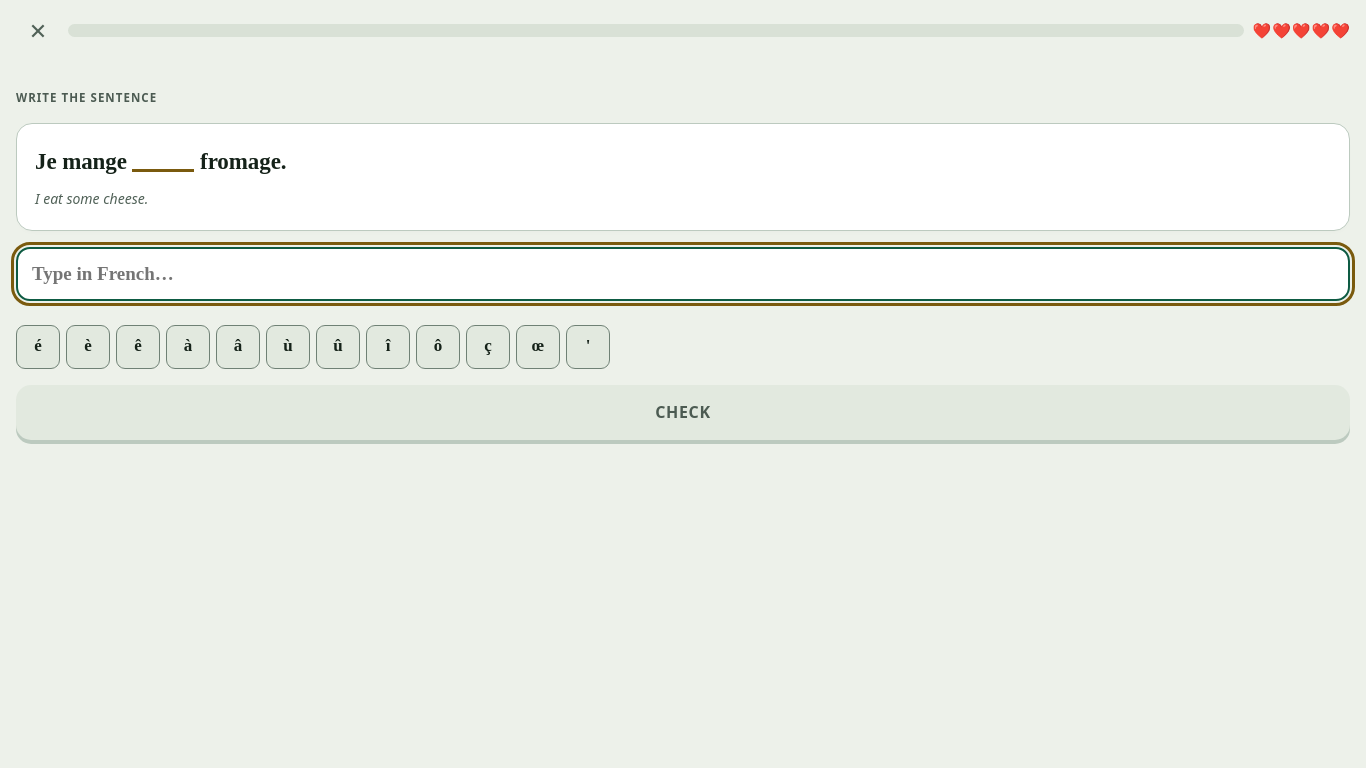
RoundView: every question kind can be answered › type: a wrong answer costs a heart, opens the why-card, and Got it moves on
The image size is (1366, 768).
Step 1. Type "zzz" into the field → (683, 274), box [16,247,1350,301]
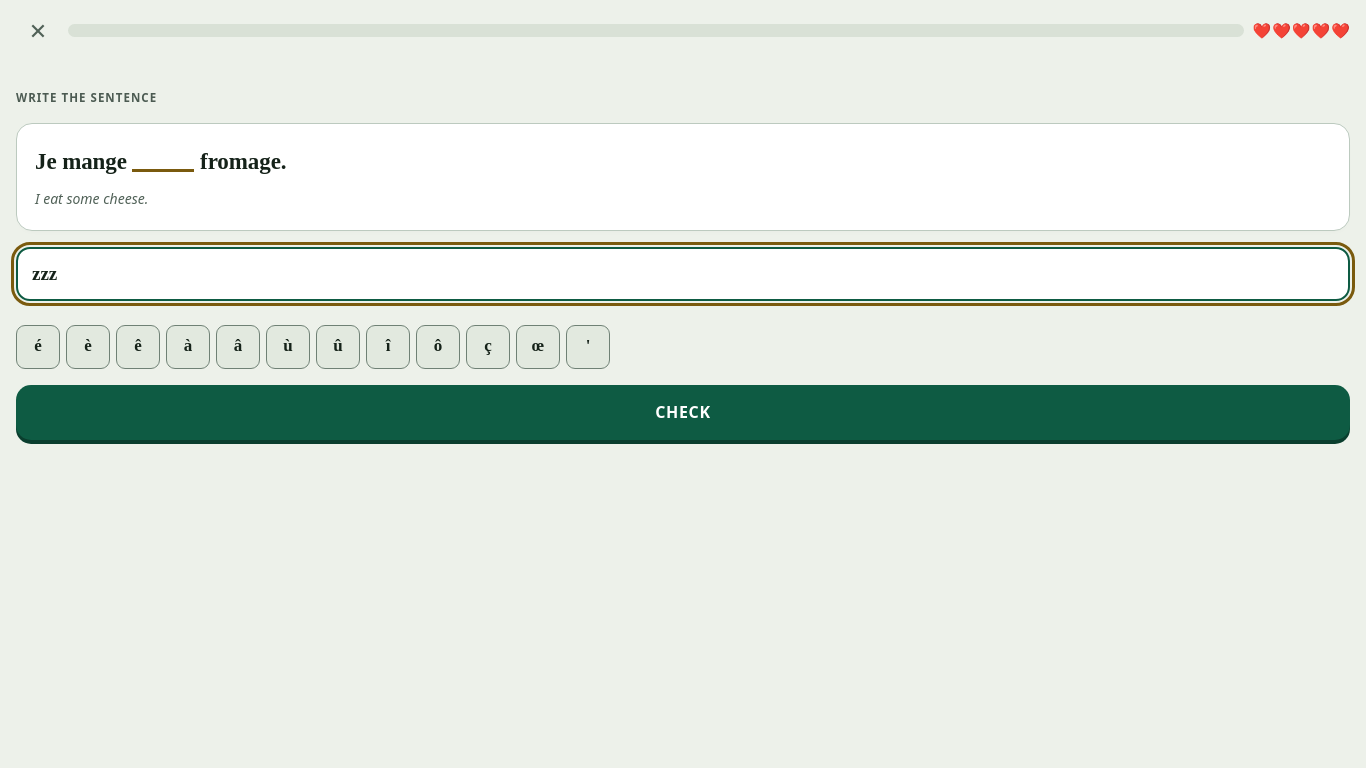
Step 2. Click the button "Check" → (683, 412), box [16,385,1350,440]
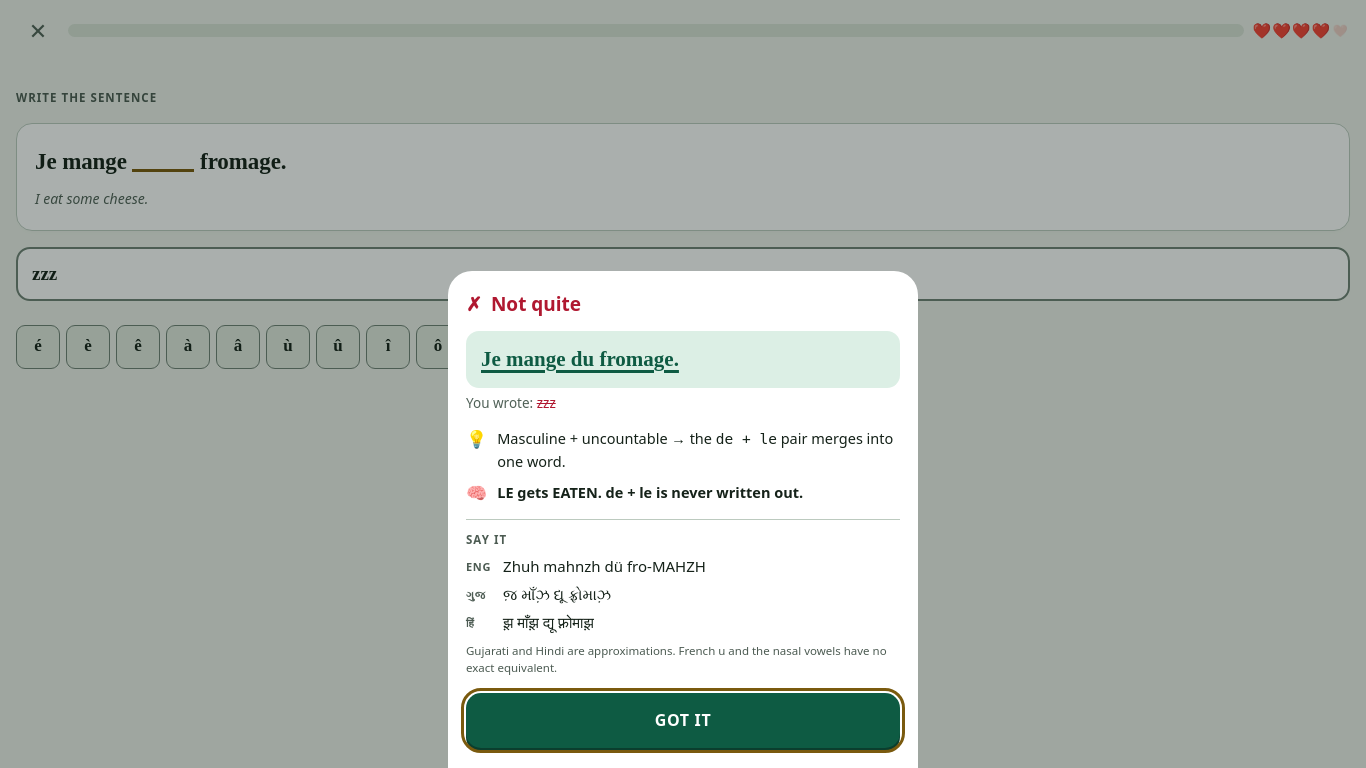
Expected: the picture named "4 of 5 hearts left" is shown, [1252,22,1350,38]
Step 3. Click the button "Got it" → (683, 720), box [466,693,900,748]
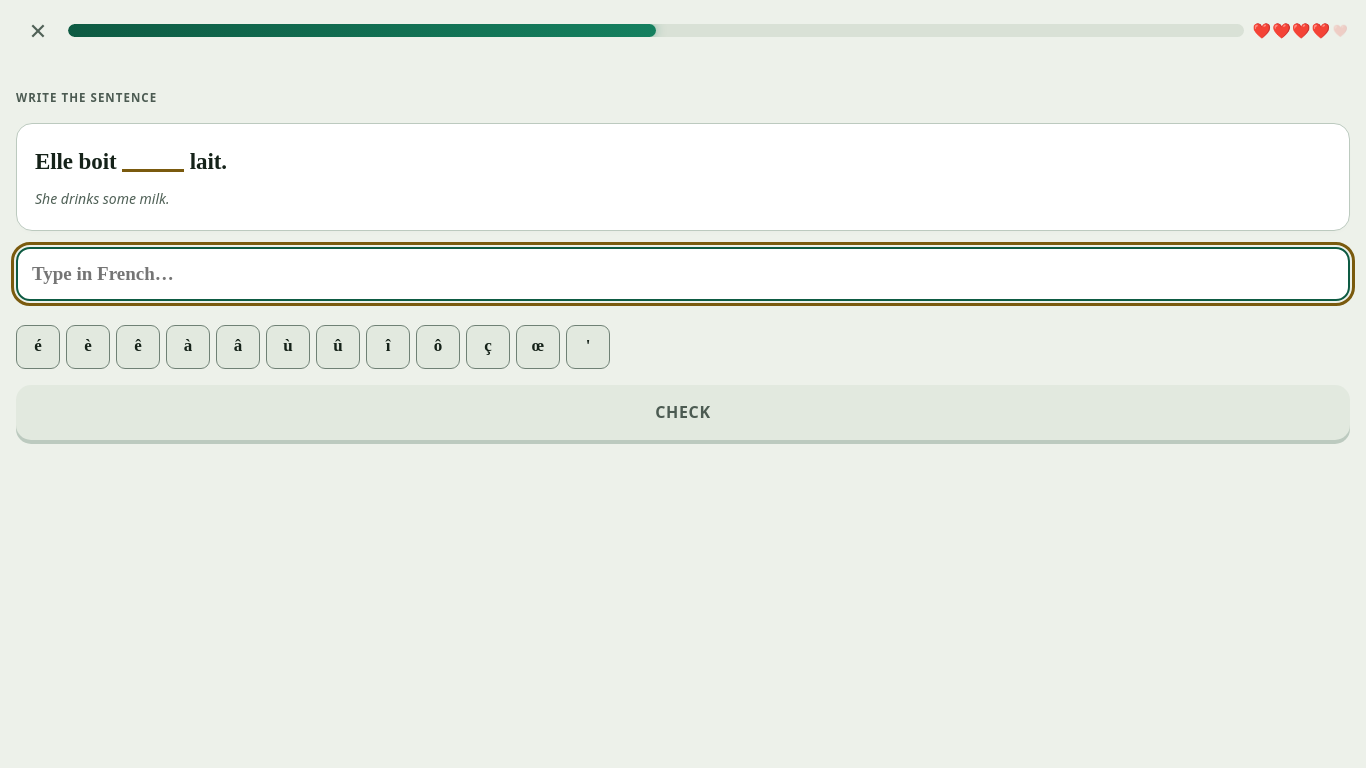
Expected: the dialog is gone
